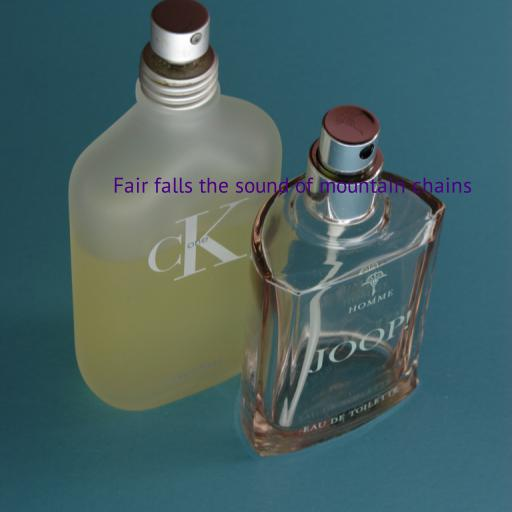PT Sans: (112, 177, 472, 193)
